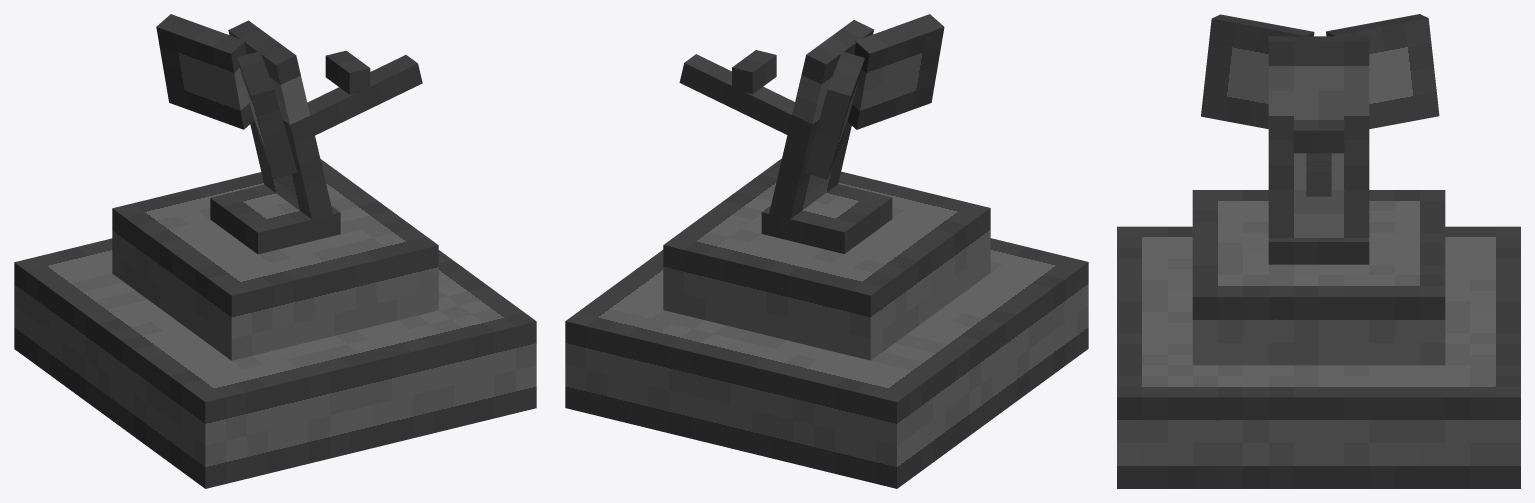
Rendered from universal_sensor.obj.
3 views of the same model, side by side, from view 1: azimuth 30°, elevation 25°; view 2: azimuth 150°, elevation 25°; view 3: azimuth 270°, elevation 25° (orthographic). The views are drawn at different scales.
Parts seen in each view (by area): view 1: Base1, Base2, Dish; view 2: Base1, Base2, Dish; view 3: Base1, Dish, Base2.
Boxes of the visible parts, x1,y1,x2,y2 form: Base1: [14, 238, 536, 488]; Base2: [112, 159, 438, 360]; Dish: [156, 14, 422, 254]; Base1: [565, 238, 1088, 488]; Base2: [663, 158, 990, 360]; Dish: [679, 14, 944, 253]; Base1: [1117, 226, 1520, 488]; Dish: [1201, 14, 1439, 264]; Base2: [1192, 190, 1445, 365].
Size of the model in its own units: 1 by 0.9847 by 1.
